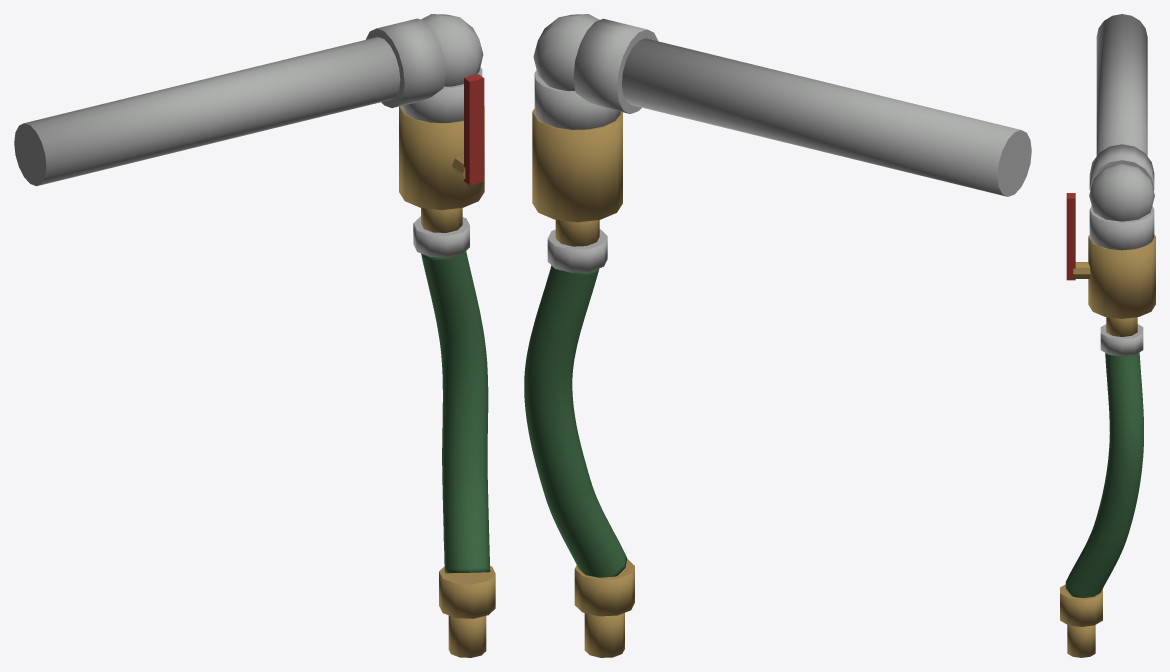
The model's file is barrel_pump_bend3.obj.
3 views of the same model, side by side, from view 1: azimuth 30°, elevation 25°; view 2: azimuth 150°, elevation 25°; view 3: azimuth 270°, elevation 25° (orthographic). The views are drawn at different scales.
Visible parts, largest first — view 1: pipe8, hose, valve_body, elbow_socket8, elbow_hub, spigot_nut, valve_lever, elbow_socket1, hose_collar, spigot, hose_barb; view 2: pipe8, hose, valve_body, elbow_socket8, elbow_hub, elbow_socket1, spigot_nut, hose_collar, spigot, hose_barb; view 3: hose, pipe8, valve_body, elbow_hub, elbow_socket1, elbow_socket8, spigot_nut, hose_collar, spigot, valve_lever, hose_barb, valve_stem.
Boxes of the visible parts, x1,y1,x2,y2 form: pipe8: (14, 37, 400, 186); hose: (421, 251, 490, 573); valve_body: (399, 106, 484, 210); elbow_socket8: (366, 18, 445, 108); elbow_hub: (421, 14, 483, 86); spigot_nut: (439, 566, 495, 618); valve_lever: (464, 74, 484, 185); elbow_socket1: (401, 67, 482, 122); hose_collar: (413, 216, 469, 257); spigot: (448, 615, 486, 657); hose_barb: (421, 208, 462, 232); pipe8: (621, 38, 1031, 196); hose: (524, 265, 627, 577); valve_body: (532, 108, 622, 222); elbow_socket8: (573, 18, 657, 113); elbow_hub: (533, 14, 599, 91); elbow_socket1: (534, 70, 620, 129); spigot_nut: (574, 559, 634, 616); hose_collar: (547, 229, 607, 272); spigot: (584, 613, 624, 657); hose_barb: (555, 220, 599, 246); hose: (1065, 352, 1143, 597); pipe8: (1096, 14, 1147, 155); valve_body: (1088, 234, 1155, 318); elbow_hub: (1089, 163, 1154, 221); elbow_socket1: (1089, 205, 1154, 250); elbow_socket8: (1089, 144, 1154, 190); spigot_nut: (1060, 584, 1102, 626); hose_collar: (1100, 324, 1143, 356); spigot: (1067, 625, 1095, 657); valve_lever: (1066, 193, 1075, 280); hose_barb: (1106, 317, 1137, 336); valve_stem: (1073, 262, 1090, 278).
Bounding box in the file's own units: 0.5548 × 0.7139 × 0.1275.
4 materials, 4 textured.
